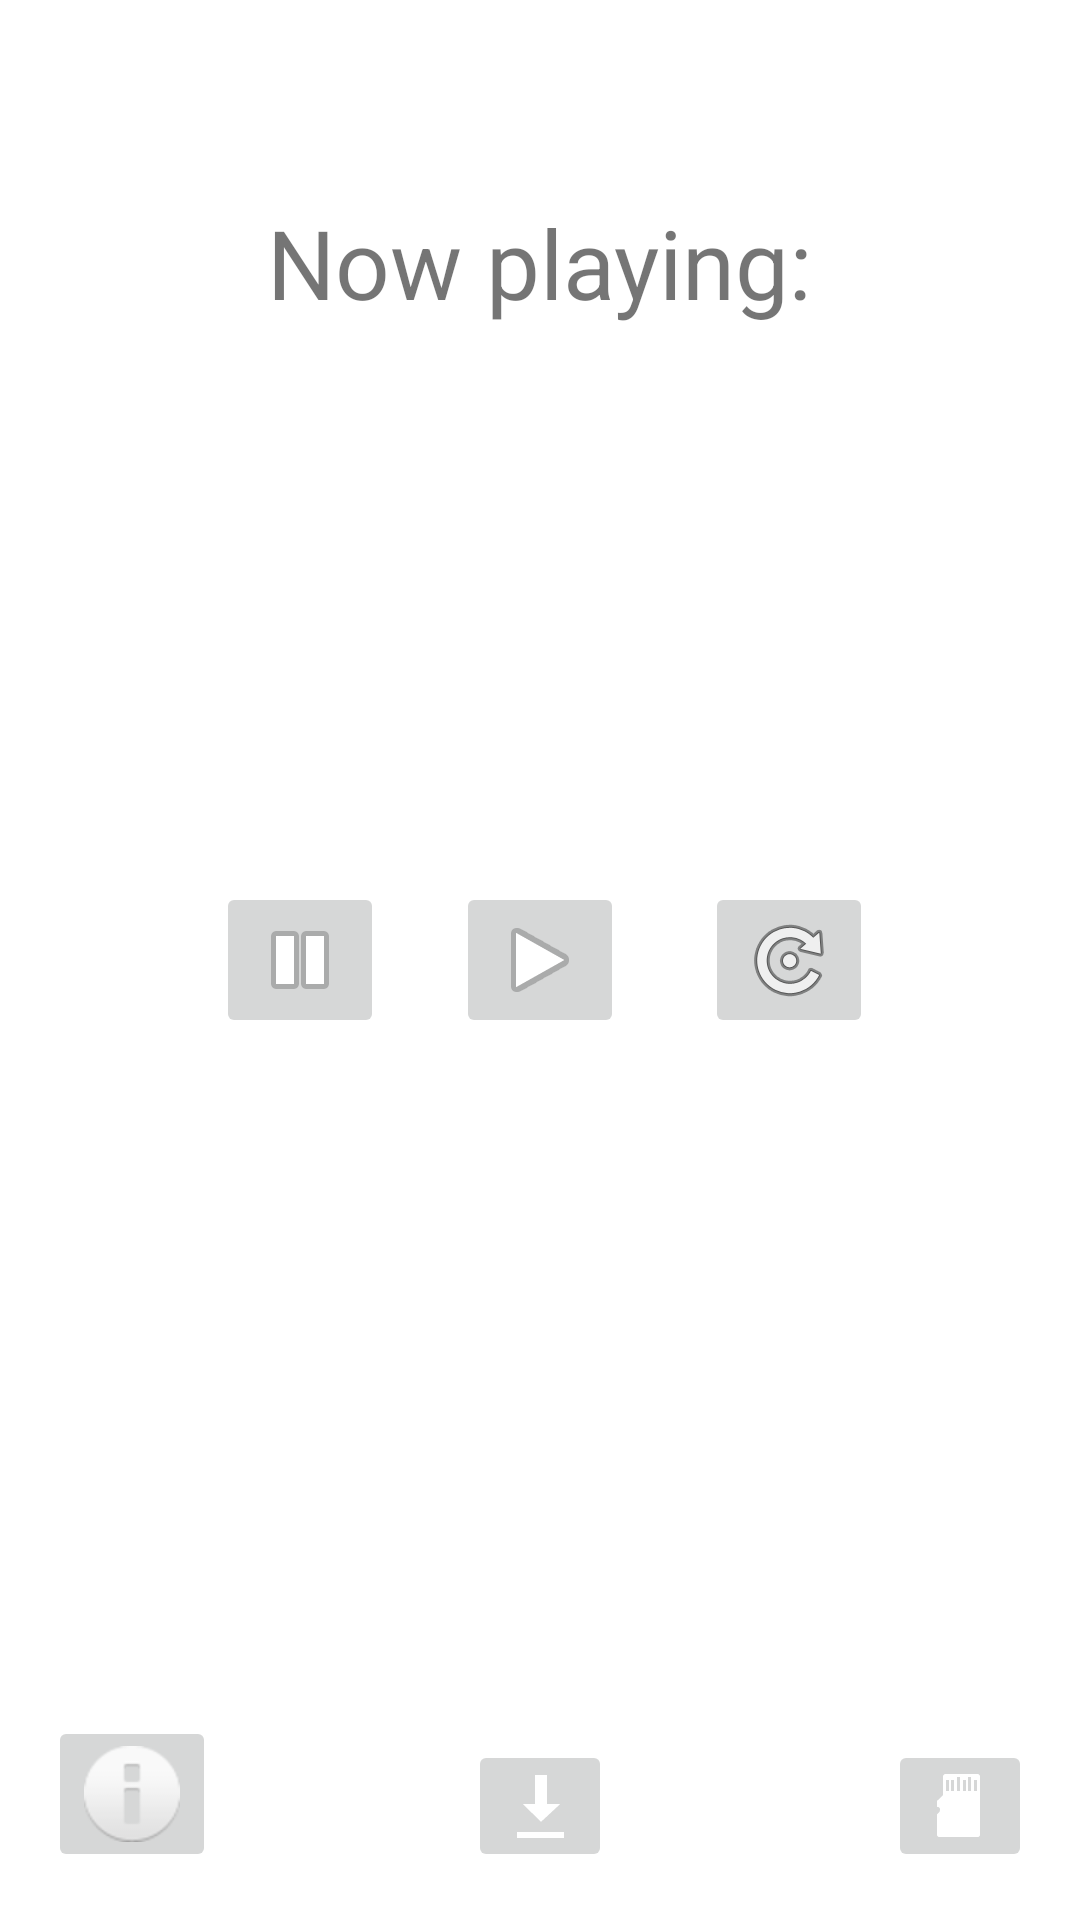

Icon click points for this 1080×1920 phone screenshot, format (x,y):
download: (540,1806)
info: (132,1794)
pause: (300,960)
play: (540,960)
rotate: (789,960)
sdcard: (960,1806)
